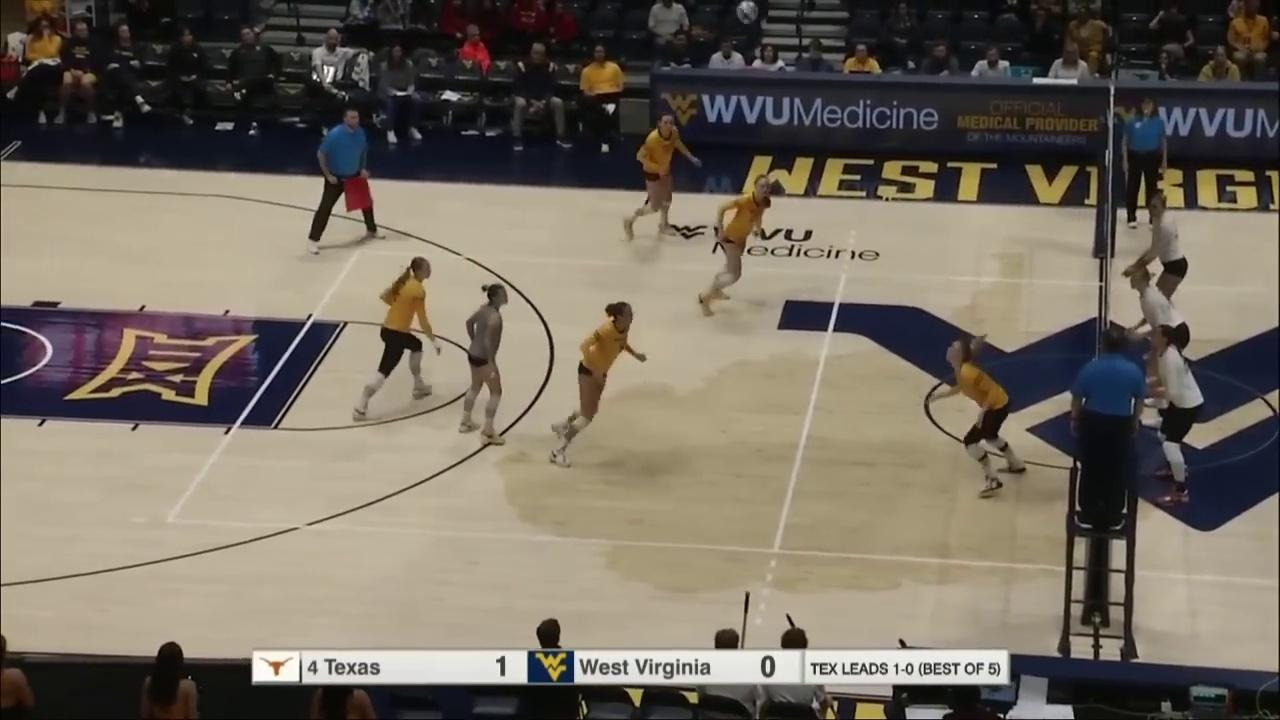player: (548, 297, 650, 468), (930, 337, 1030, 497), (353, 255, 441, 425), (626, 112, 709, 246), (689, 178, 770, 315), (1150, 324, 1207, 511), (1130, 268, 1191, 422), (1136, 195, 1189, 356), (460, 283, 509, 451)
refree: (1076, 326, 1140, 529), (307, 109, 388, 259), (1122, 95, 1170, 230)
